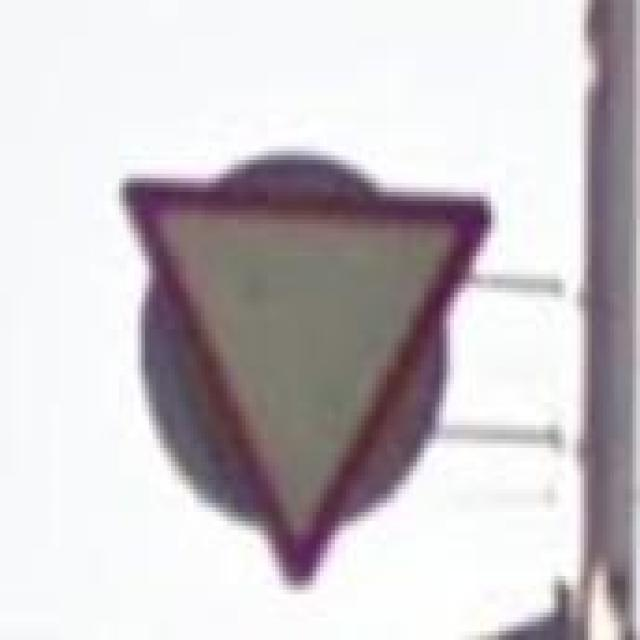give_way: (119, 173, 495, 590)
